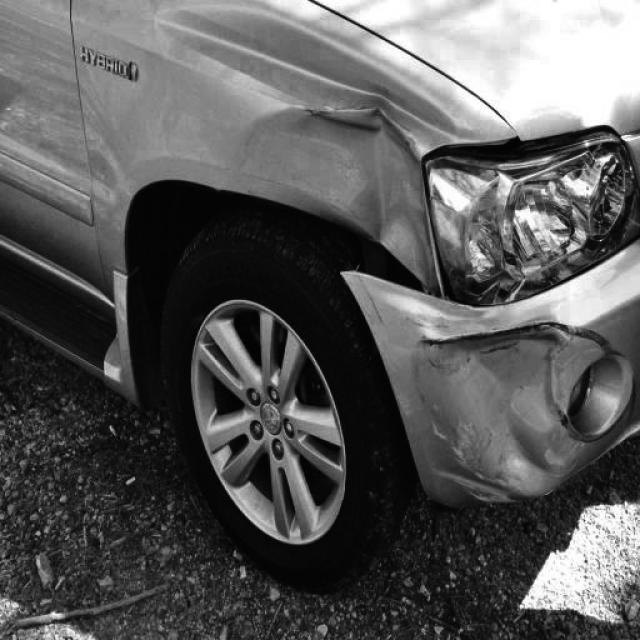car damage: (431, 117, 639, 312), (419, 321, 629, 501), (281, 102, 441, 292)
